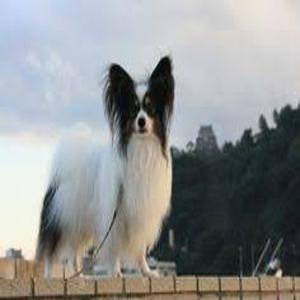yell: (33, 54, 173, 278)
